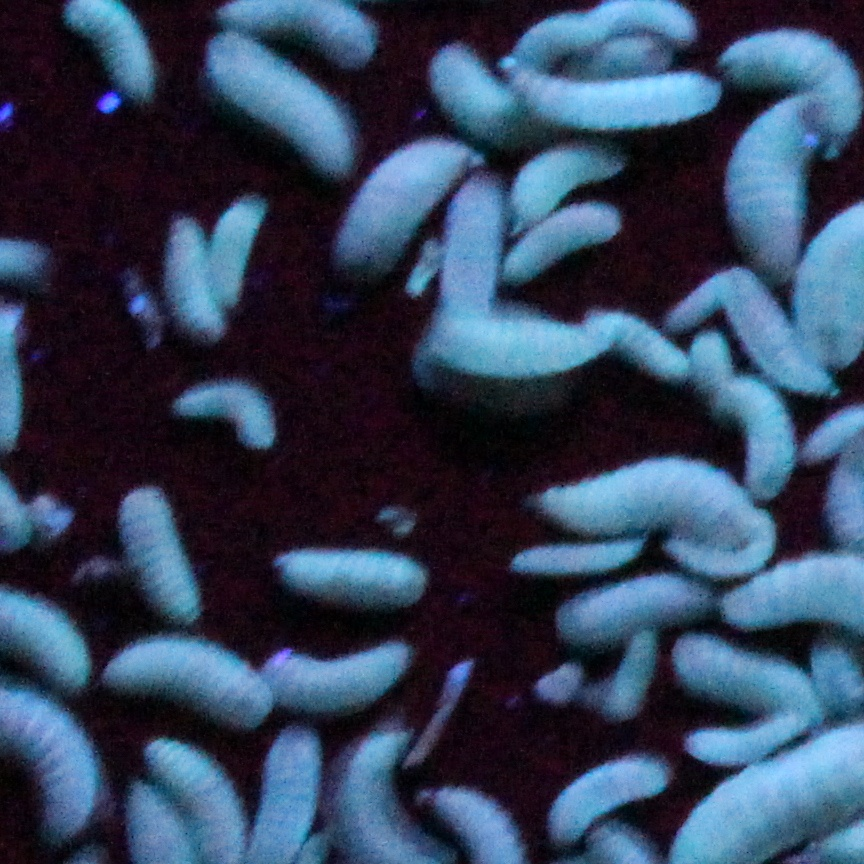larve: (524, 444, 746, 540), (214, 56, 348, 179), (268, 519, 434, 616), (96, 644, 270, 733), (110, 485, 204, 638), (271, 629, 423, 715), (351, 128, 441, 271), (740, 99, 809, 264), (677, 632, 814, 715), (164, 364, 283, 459), (515, 70, 718, 125), (679, 765, 855, 826), (142, 218, 220, 346), (444, 185, 511, 318), (435, 323, 597, 376), (545, 579, 710, 629), (213, 4, 370, 55), (738, 23, 844, 91), (545, 758, 678, 807), (513, 220, 620, 279), (608, 311, 683, 386), (743, 374, 789, 496), (451, 48, 506, 148), (228, 202, 279, 306), (511, 542, 653, 578), (728, 272, 790, 353), (607, 637, 658, 728), (518, 142, 593, 202), (593, 3, 701, 40), (515, 16, 594, 54), (680, 724, 801, 747)
